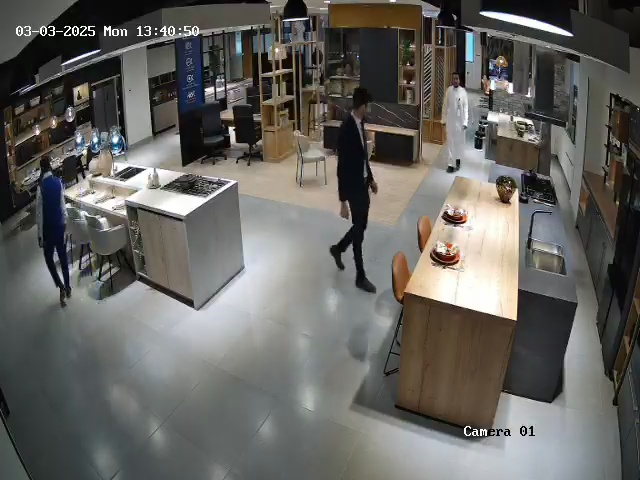employee: (329, 87, 378, 294), (37, 155, 72, 304)
male: (441, 72, 469, 173), (534, 110, 551, 188)
